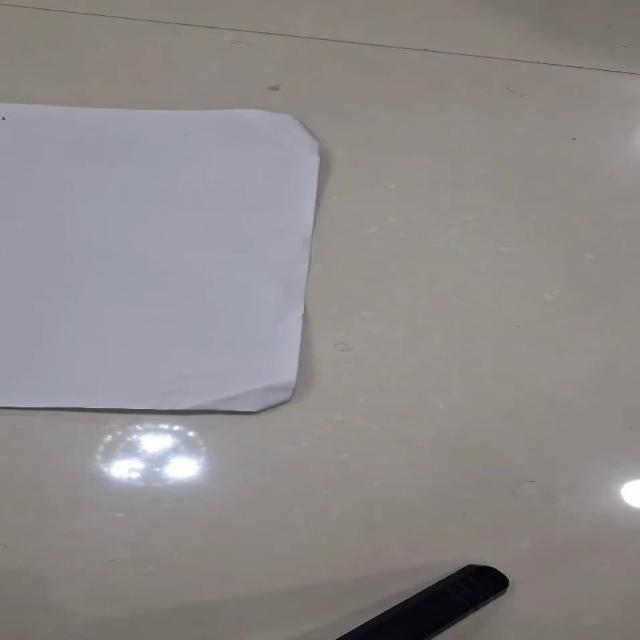paper: (0, 101, 321, 413)
